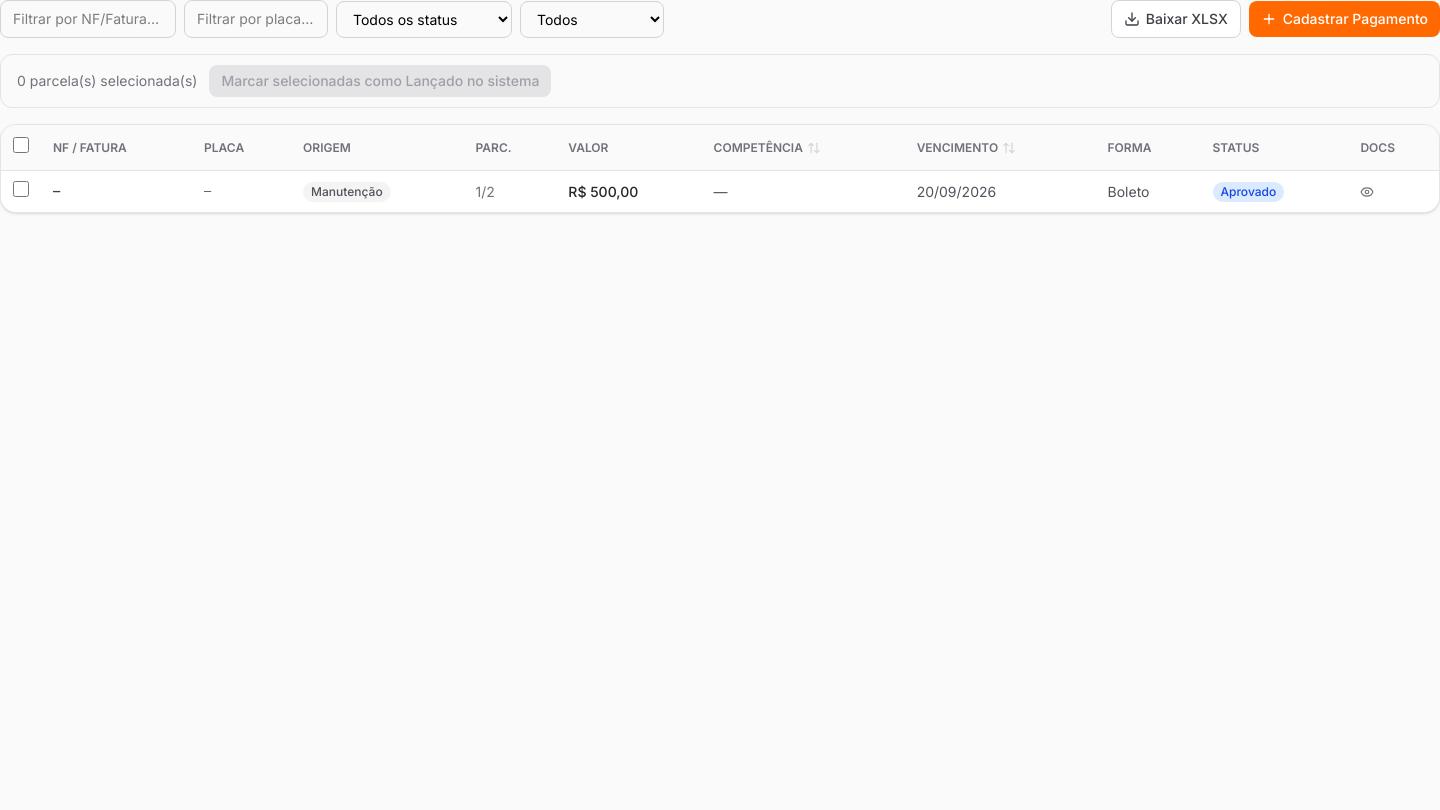
PaymentsTab — cancelamento › Admin Master vê botão
The image size is (1440, 810).
Click the button named "Visualizar parcela" at x=1367, y=192, box [1360,184,1374,198]
(page scrolled)
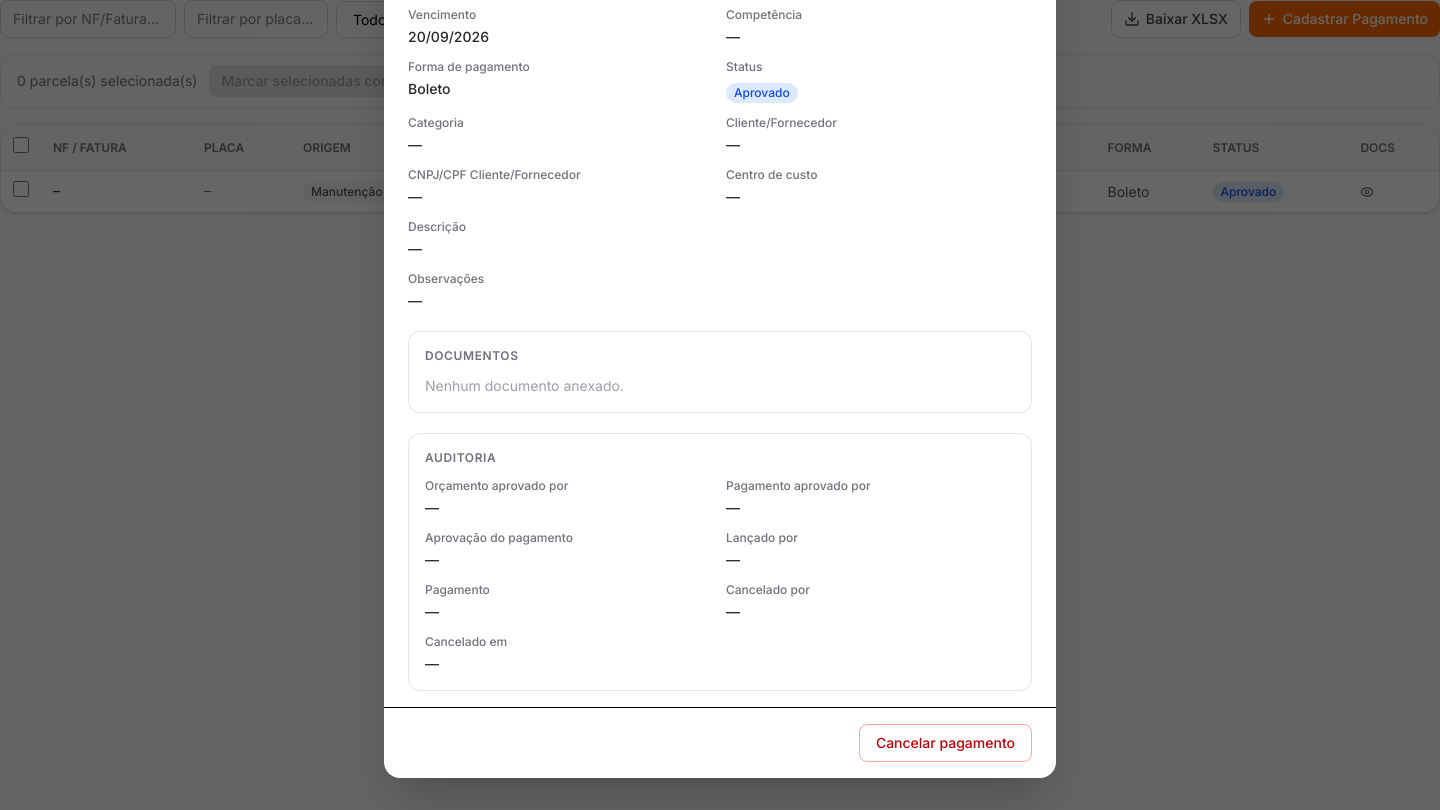
Expected: the button "Cancelar pagamento" is shown, [859,724,1032,762]
